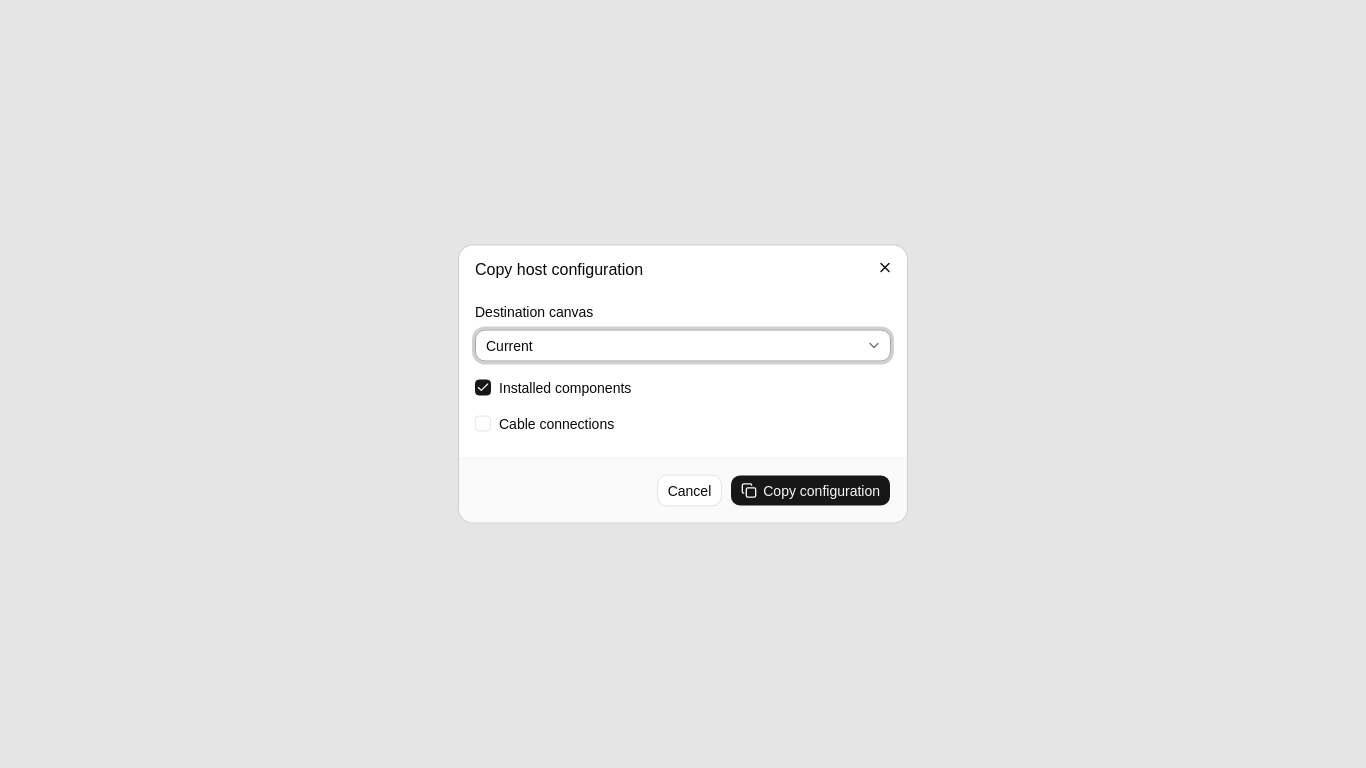
Test case: host configuration copy dialog › keeps the dialog open and reports a destination persistence failure
Click the button "Copy configuration" at (811, 490), box [730,474,891,506]
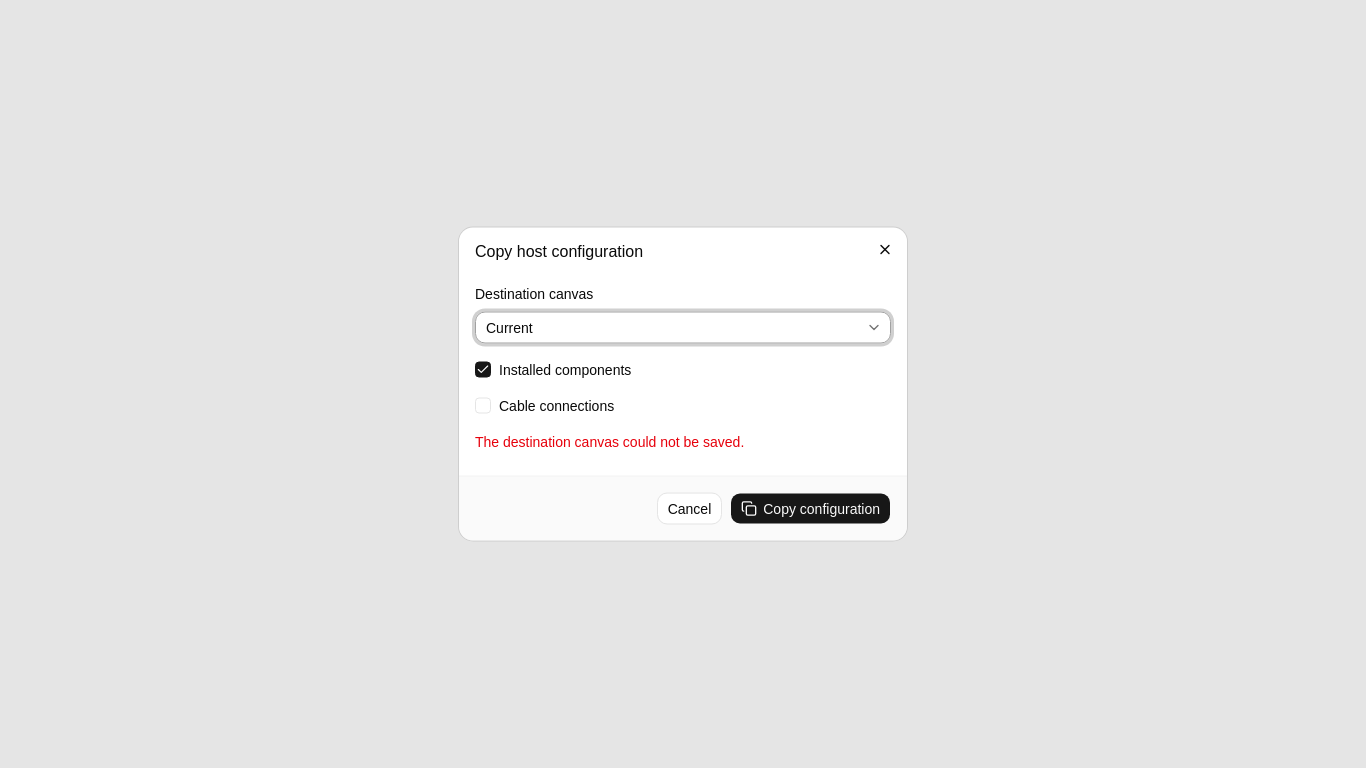
Expected: the text "The destination canvas could not be saved." is shown, [475,434,744,450]
